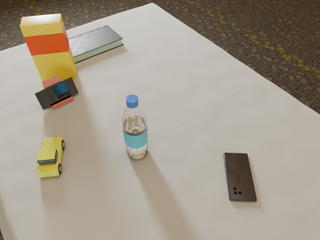book: (68, 25, 124, 63)
bottle: (122, 95, 148, 159)
box: (20, 14, 76, 81)
phone: (223, 153, 257, 201), (35, 77, 78, 110)
toy_car: (37, 137, 65, 178)
